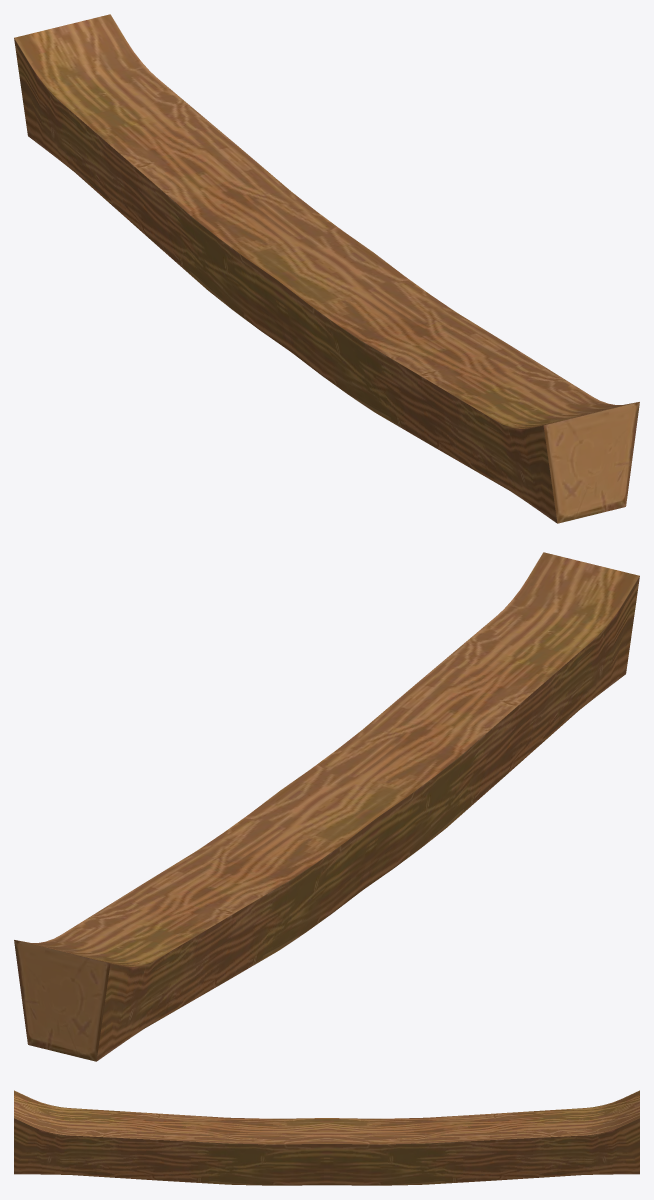
File: roof_log.glb
3 renders of one model, top to bottom at view 1: azimuth 30°, elevation 25°; view 2: azimuth 150°, elevation 25°; view 3: azimuth 270°, elevation 25°, orthographic. The views are drawn at different scales.
Size of the model in its own units: 1.15 by 1.39 by 10.7.
Materials: 1 (1 with a texture image).
